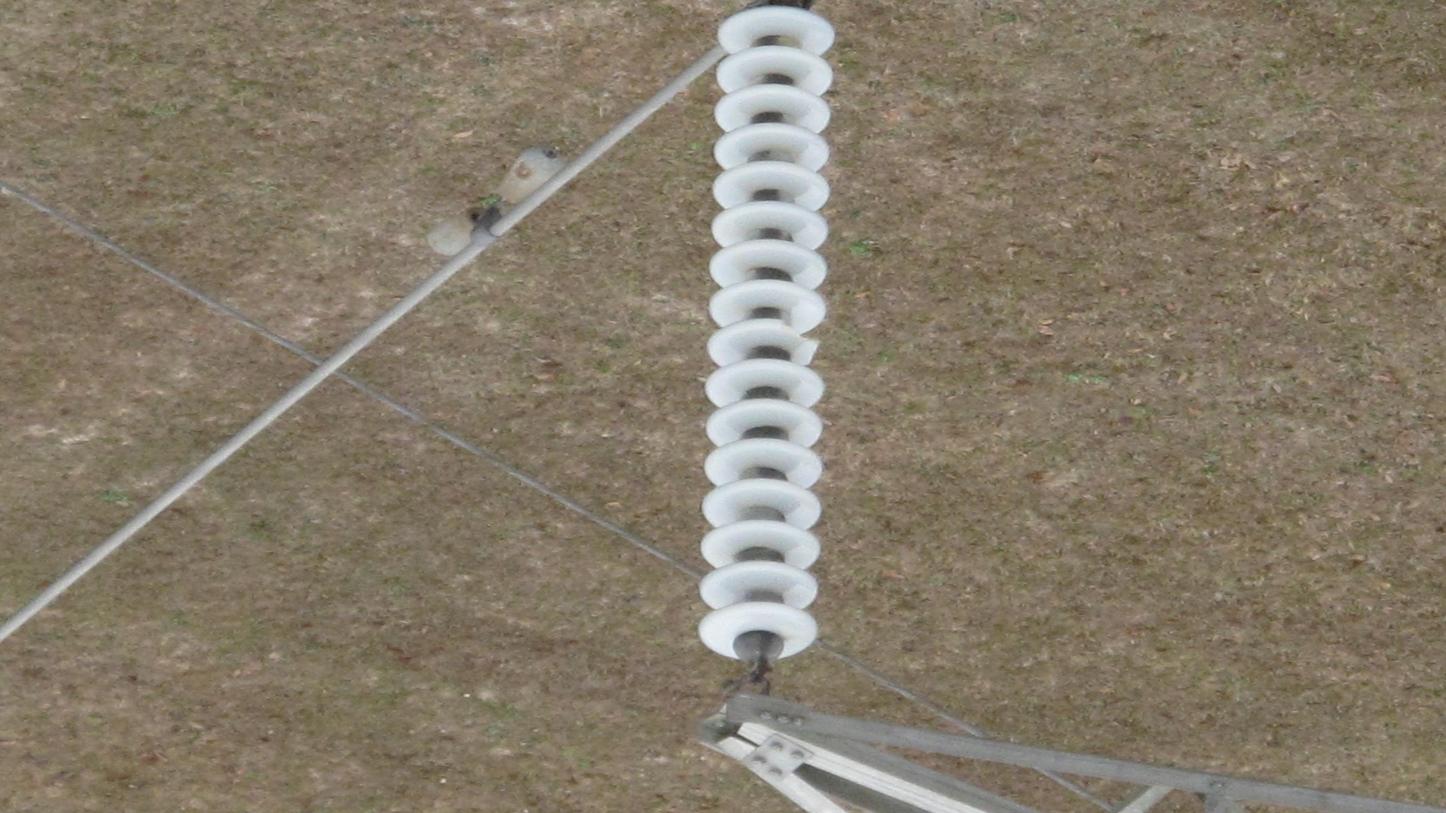insulator: (691, 5, 841, 668)
insulator_breakage: (772, 315, 824, 368)
